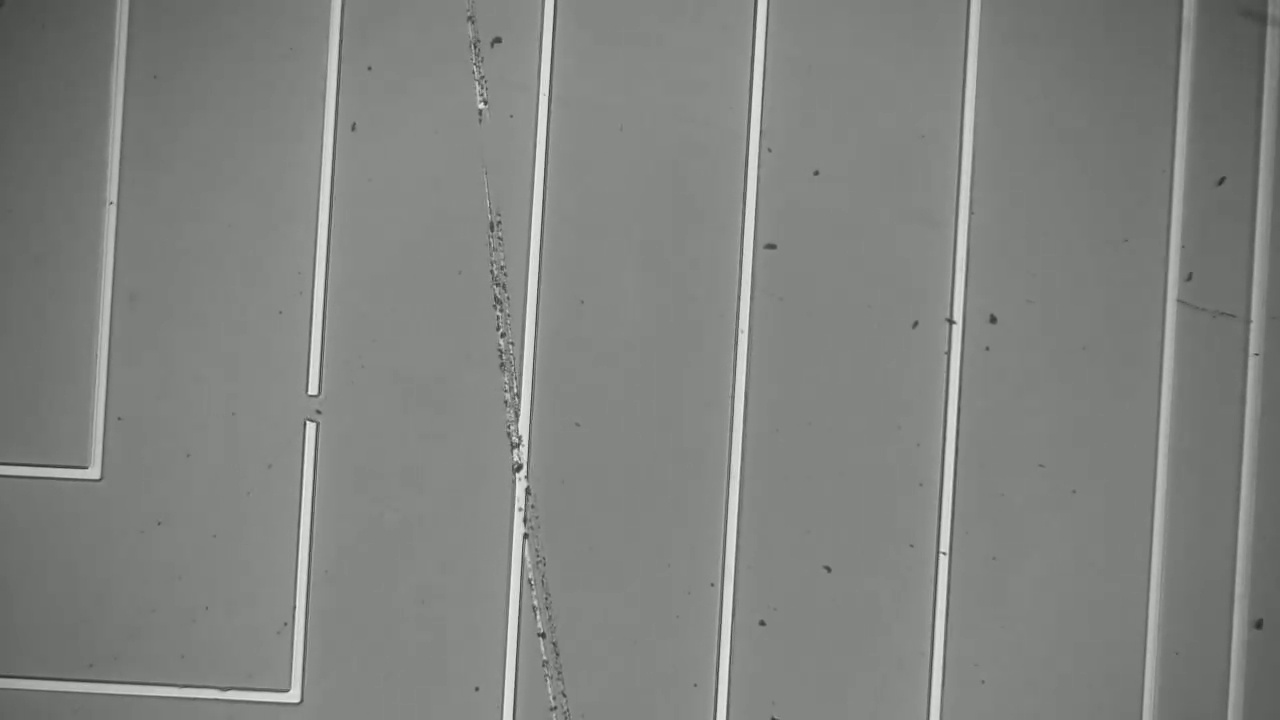open: (295, 370, 332, 434)
scratch: (453, 4, 569, 718), (1176, 282, 1245, 334)
